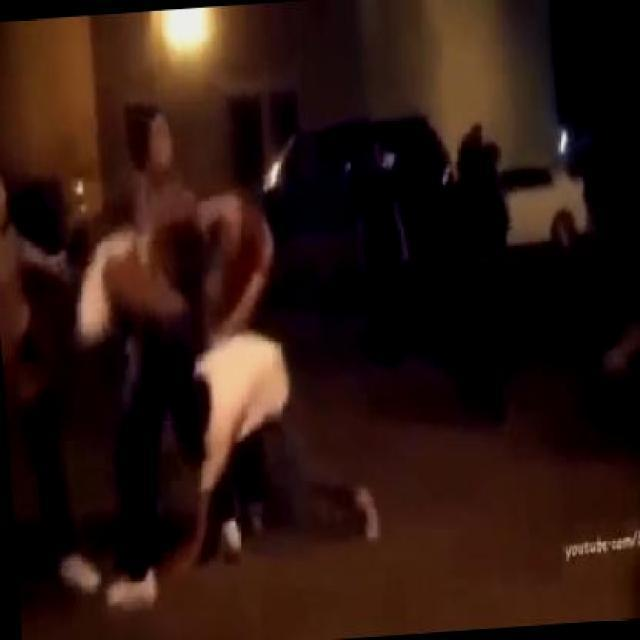fight: (75, 176, 283, 376)
